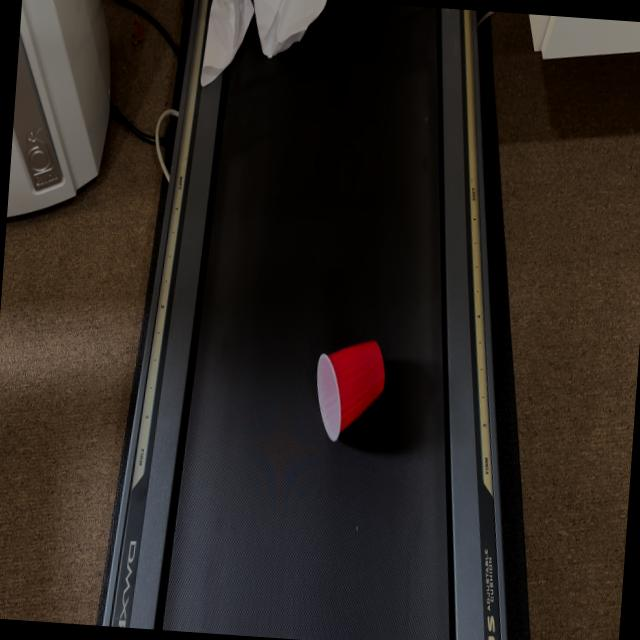Recycle: (199, 0, 325, 96)
Trash: (312, 339, 386, 445)
